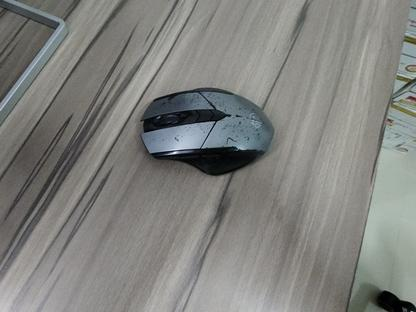mouse: (139, 86, 275, 176)
